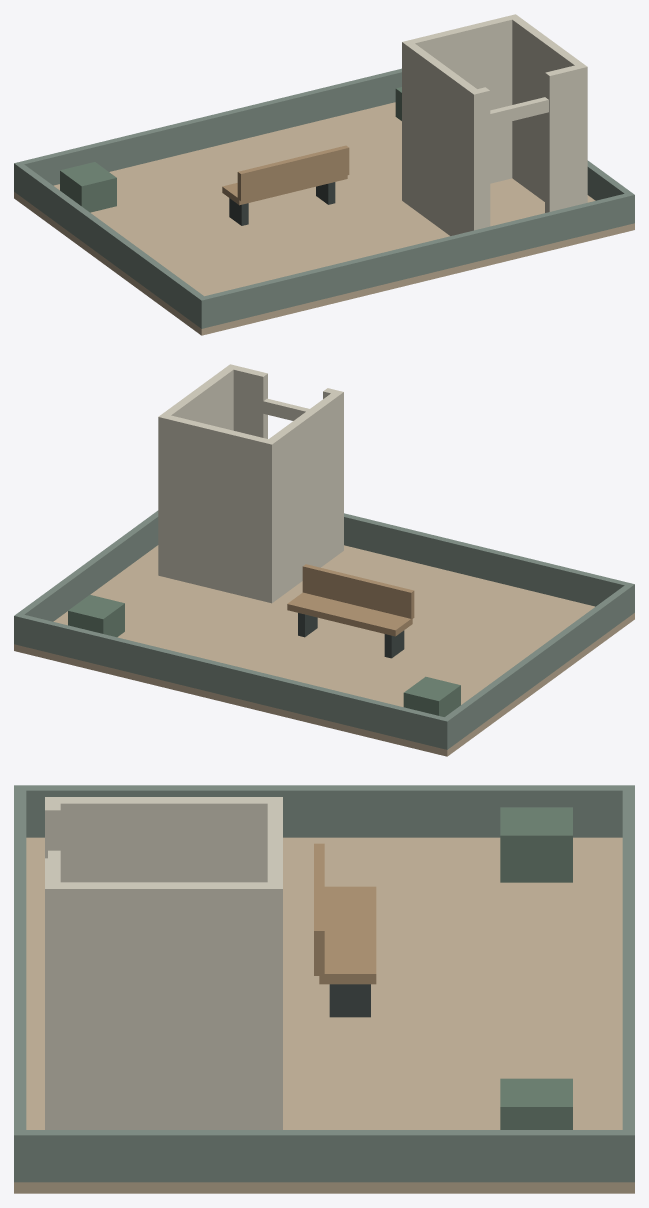
The picture shows the model from 3 angles, top to bottom: view 1: azimuth 30°, elevation 25°; view 2: azimuth 150°, elevation 25°; view 3: azimuth 270°, elevation 25°; orthographic projection. The views are drawn at different scales.
Visible parts, largest first — view 1: GROUND_0, RS_3, UTILW_11, RN_1, UTILN_9, UTILE_10, RW_2, UTILS2_13, BENCHB_6, POT_17, UTILS1_12, UD-lintel_16 (+2 smaller); view 2: GROUND_0, UTILN_9, RN_1, UTILW_11, RS_3, RW_2, RE_4, UTILE_10, BENCHB_6, BENCH_5, UTILS2_13, POT_18 (+3 smaller); view 3: GROUND_0, UTILE_10, RE_4, RW_2, UTILW_11, POT_17, UTILN_9, BENCH_5, RN_1, RS_3, POT_18, UTILS2_13 (+3 smaller).
Part boxes in pixels (bbox=[...]): GROUND_0: bbox=[14, 102, 634, 335]; RS_3: bbox=[198, 192, 634, 328]; UTILW_11: bbox=[402, 40, 481, 235]; RN_1: bbox=[14, 68, 401, 192]; UTILN_9: bbox=[402, 14, 519, 203]; UTILE_10: bbox=[508, 14, 587, 204]; RW_2: bbox=[14, 161, 207, 328]; UTILS2_13: bbox=[545, 63, 587, 212]; BENCHB_6: bbox=[237, 145, 349, 201]; POT_17: bbox=[60, 162, 116, 212]; UTILS1_12: bbox=[469, 87, 490, 229]; UD-lintel_16: bbox=[490, 97, 548, 126]; GROUND_0: bbox=[14, 545, 634, 756]; UTILN_9: bbox=[158, 413, 273, 603]; RN_1: bbox=[14, 614, 450, 749]; UTILW_11: bbox=[264, 390, 343, 602]; RS_3: bbox=[344, 513, 634, 614]; RW_2: bbox=[441, 583, 634, 749]; RE_4: bbox=[14, 510, 158, 641]; UTILE_10: bbox=[158, 364, 237, 577]; BENCHB_6: bbox=[302, 564, 414, 618]; BENCH_5: bbox=[287, 592, 412, 636]; UTILS2_13: bbox=[228, 364, 267, 438]; POT_18: bbox=[68, 595, 124, 637]; GROUND_0: bbox=[14, 837, 634, 1193]; UTILE_10: bbox=[45, 882, 282, 1129]; RE_4: bbox=[14, 1130, 634, 1182]; RW_2: bbox=[14, 785, 634, 837]; UTILW_11: bbox=[45, 797, 282, 882]; POT_17: bbox=[500, 807, 572, 882]; UTILN_9: bbox=[267, 797, 282, 1129]; BENCH_5: bbox=[319, 886, 376, 984]; RN_1: bbox=[622, 785, 634, 1182]; RS_3: bbox=[14, 785, 26, 1182]; POT_18: bbox=[500, 1078, 572, 1129]; UTILS2_13: bbox=[45, 858, 60, 1129].
Bounding box in the file's own units: 8 × 2.92 × 6.
